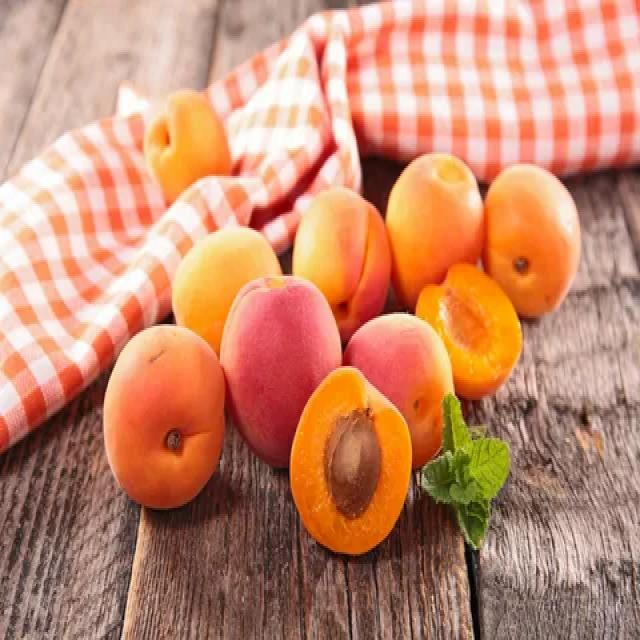Cekirdek: (325, 410, 381, 518)
Kayisi: (221, 276, 341, 466)
Yaprak: (421, 394, 509, 548)
